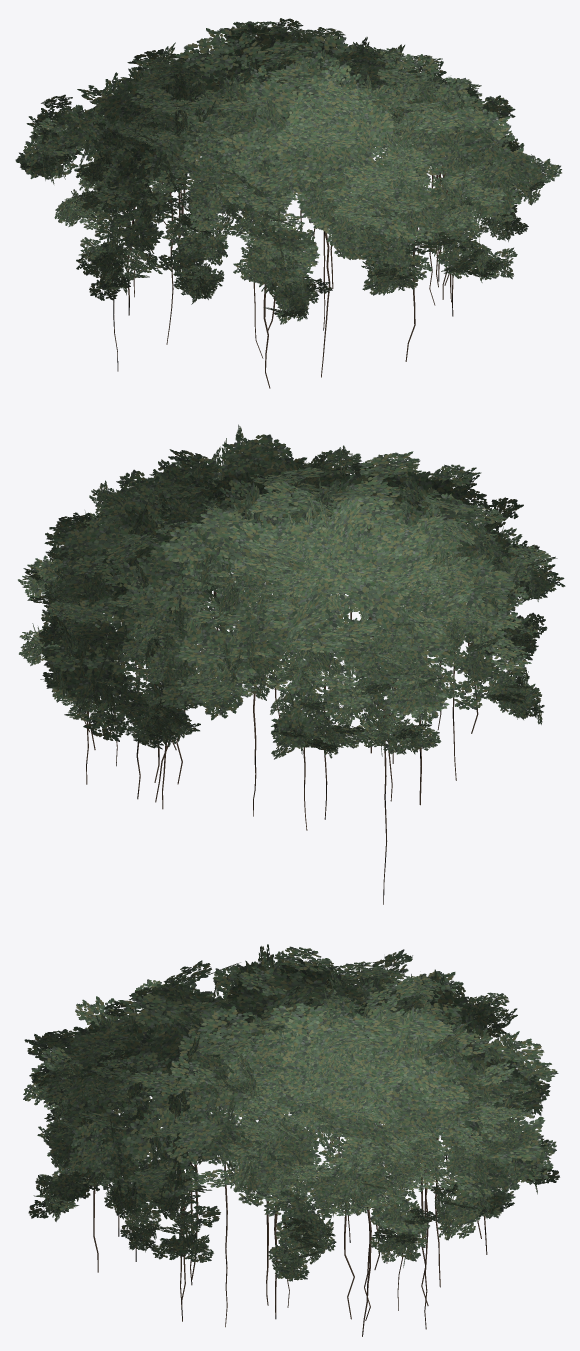
The model's file is BanyanV2.fbx.
3 views of the same model, one above another, from view 1: azimuth 30°, elevation 25°; view 2: azimuth 150°, elevation 25°; view 3: azimuth 270°, elevation 25° (orthographic). The views are drawn at different scales.
Visible parts, largest first — view 1: BanyanCanopy_4, BanyanCanopy_3, BanyanCanopy_2, BanyanCanopy_5, BanyanCanopy_1, BanyanCanopy_6, BanyanCanopy_8, BanyanCanopy_7, BanyanHangingRoots; view 2: BanyanCanopy_7, BanyanCanopy_6, BanyanCanopy_5, BanyanCanopy_4, BanyanCanopy_8, BanyanCanopy_3, BanyanCanopy_1, BanyanCanopy_2, BanyanHangingRoots; view 3: BanyanCanopy_1, BanyanCanopy_8, BanyanCanopy_7, BanyanCanopy_2, BanyanCanopy_6, BanyanCanopy_3, BanyanCanopy_5, BanyanCanopy_4, BanyanHangingRoots.
Part boxes in pixels (x1,y1,x2,y2): BanyanCanopy_4: (76,78,299,304); BanyanCanopy_3: (230,97,406,324); BanyanCanopy_2: (287,75,538,290); BanyanCanopy_5: (15,68,293,259); BanyanCanopy_1: (296,63,561,241); BanyanCanopy_6: (26,32,296,188); BanyanCanopy_8: (281,31,524,160); BanyanCanopy_7: (181,18,345,135); BanyanHangingRoots: (113,139,453,388); BanyanCanopy_7: (38,491,305,749); BanyanCanopy_6: (146,519,371,759); BanyanCanopy_5: (281,498,511,756); BanyanCanopy_4: (307,492,565,724); BanyanCanopy_8: (18,482,293,672); BanyanCanopy_3: (282,451,552,603); BanyanCanopy_1: (87,441,299,572); BanyanCanopy_2: (213,424,379,528); BanyanHangingRoots: (83,589,478,904); BanyanCanopy_1: (101,1026,308,1276); BanyanCanopy_8: (272,1014,447,1281); BanyanCanopy_7: (268,1003,559,1240); BanyanCanopy_2: (28,1006,300,1221); BanyanCanopy_6: (289,969,558,1122); BanyanCanopy_3: (23,977,266,1164); BanyanCanopy_5: (267,946,482,1093); BanyanCanopy_4: (129,944,312,1036); BanyanHangingRoots: (93,1101,487,1336).
Bounding box in the file's own units: 1309 × 857 × 1254.
2 materials, 2 textured.
